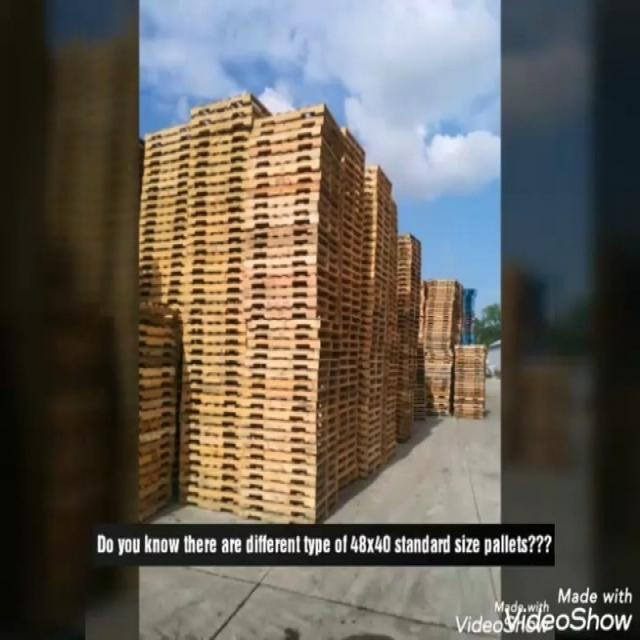Palette: (240, 97, 344, 528), (179, 92, 237, 516), (138, 298, 178, 520), (141, 126, 186, 297), (340, 128, 361, 484), (365, 160, 388, 478), (416, 277, 463, 428), (400, 232, 414, 441), (451, 337, 486, 419), (390, 194, 400, 448)
